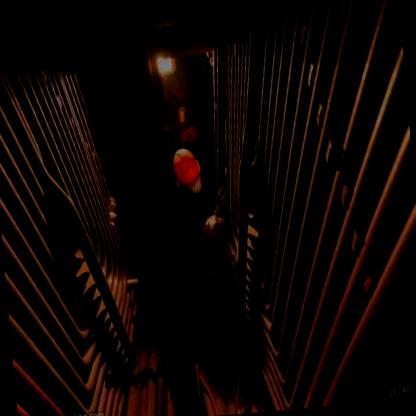helmet: (171, 145, 206, 196)
